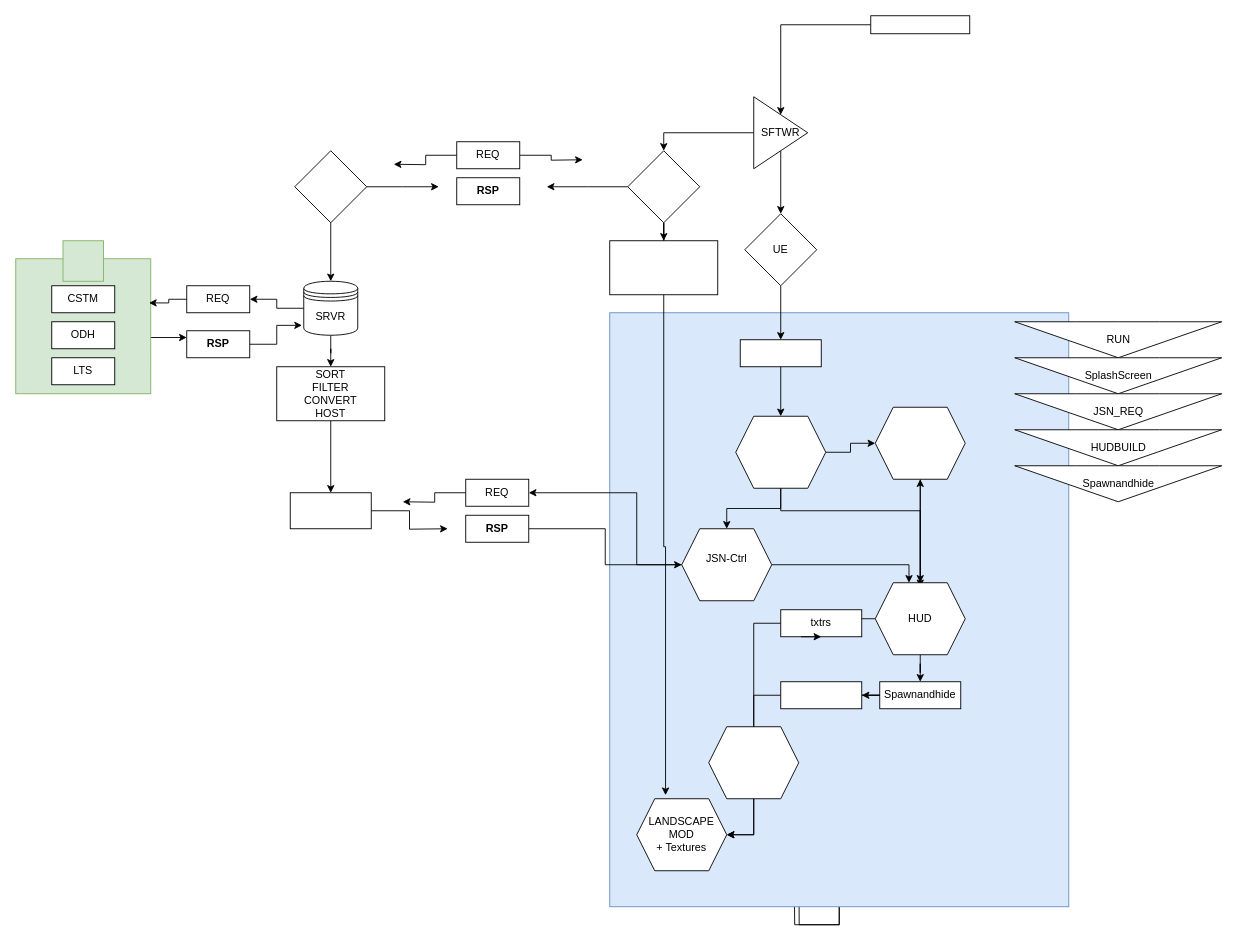
Some shapes in this 1238 by 948 pixel diagram are drawn without their labels. Each missing label, with the box of its shape:
Actors: (780, 681, 862, 709)
BCKend: (294, 150, 367, 223)
BPS: (739, 339, 821, 367)
DTM TXTRN GEOLAYER GIS DATA A: (609, 240, 718, 295)
ERT API: (289, 492, 371, 529)
GMM: (735, 415, 826, 488)
HTTP: (62, 240, 104, 281)
Ndisplay CLusTRER: (708, 726, 799, 799)
PWN: (874, 406, 965, 479)
QGIS: (627, 150, 700, 223)
RTMP 2.0: (870, 15, 970, 34)
